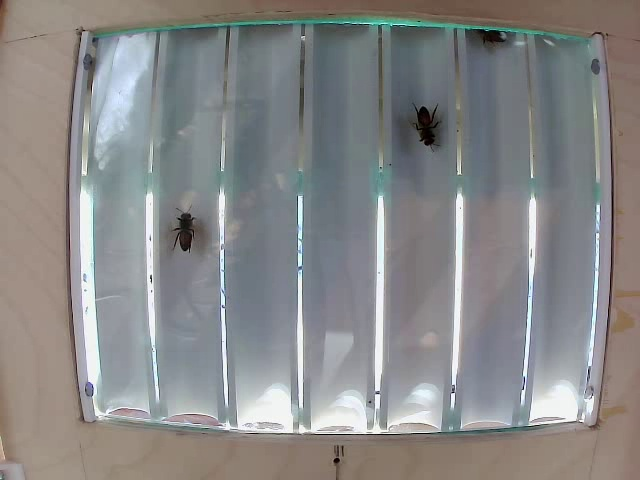bee: (159, 202, 211, 265), (399, 94, 437, 149)
